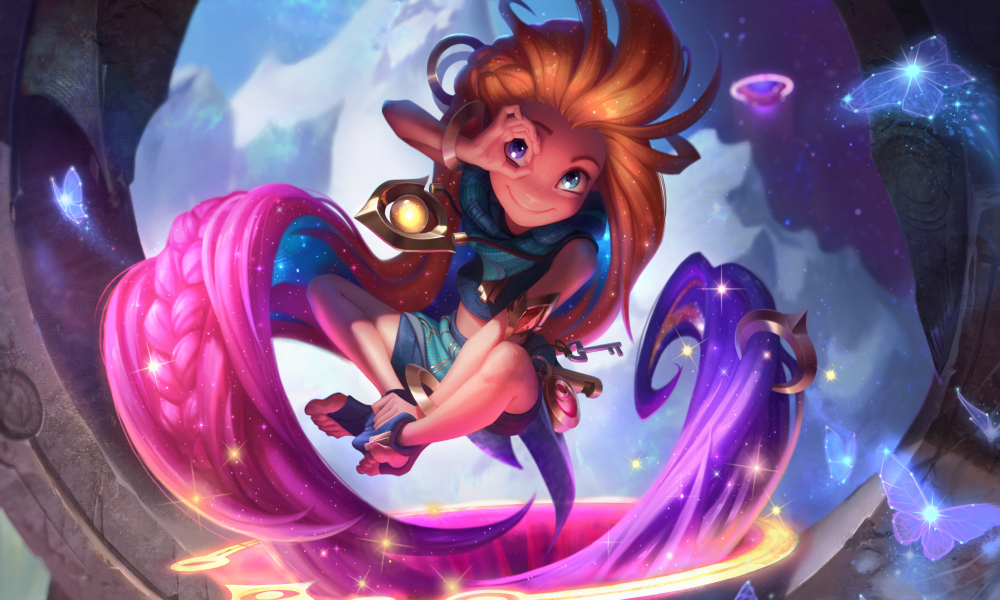face: (431, 9, 672, 246)
